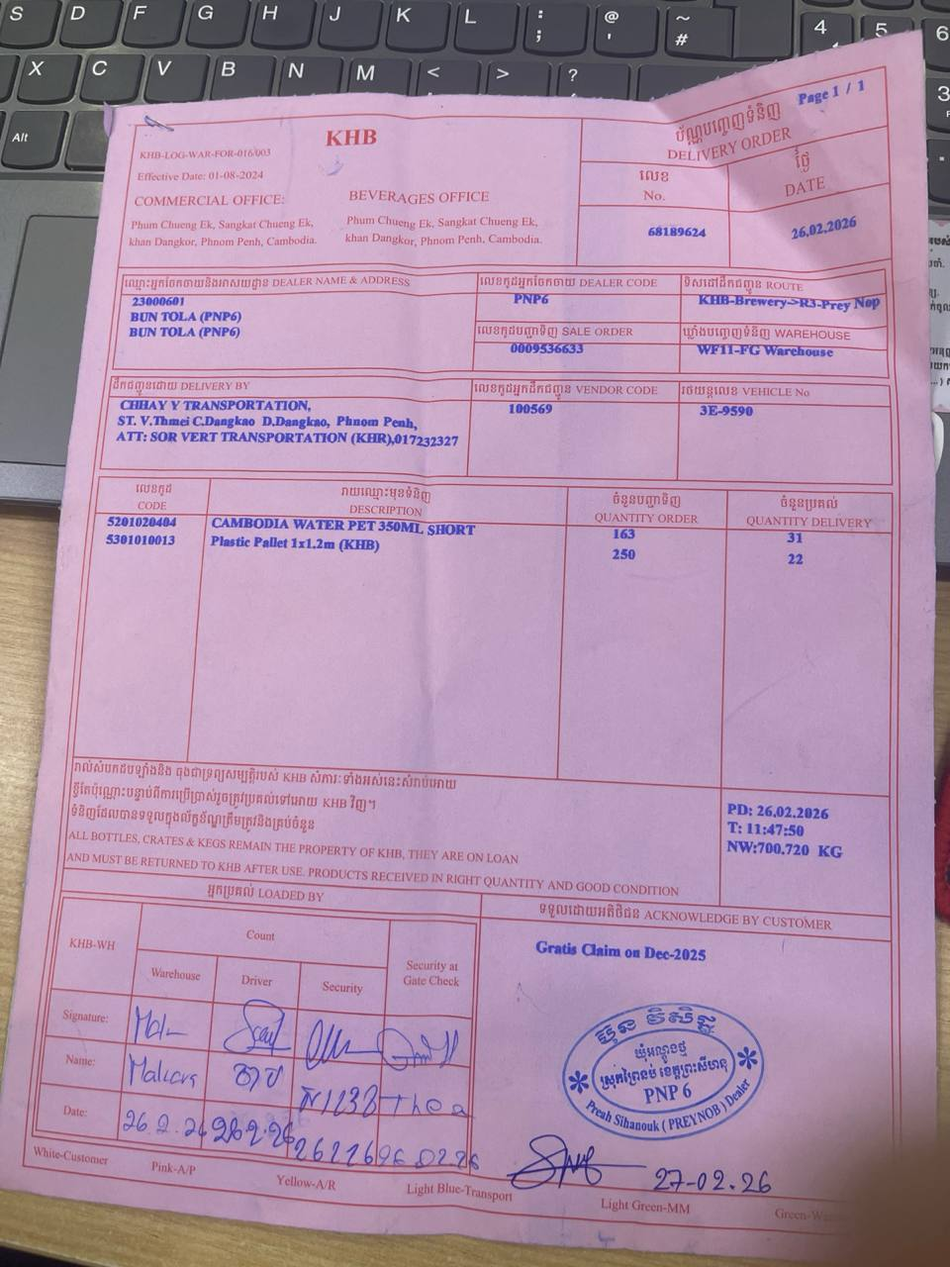Dealer Code: (471, 268, 678, 323)
Invoice Date: (729, 182, 894, 272)
Invoice No: (572, 200, 731, 267)
Sale Order: (471, 318, 680, 375)
Vehicle Code: (676, 379, 902, 492)
Vender Code: (469, 371, 680, 485)
